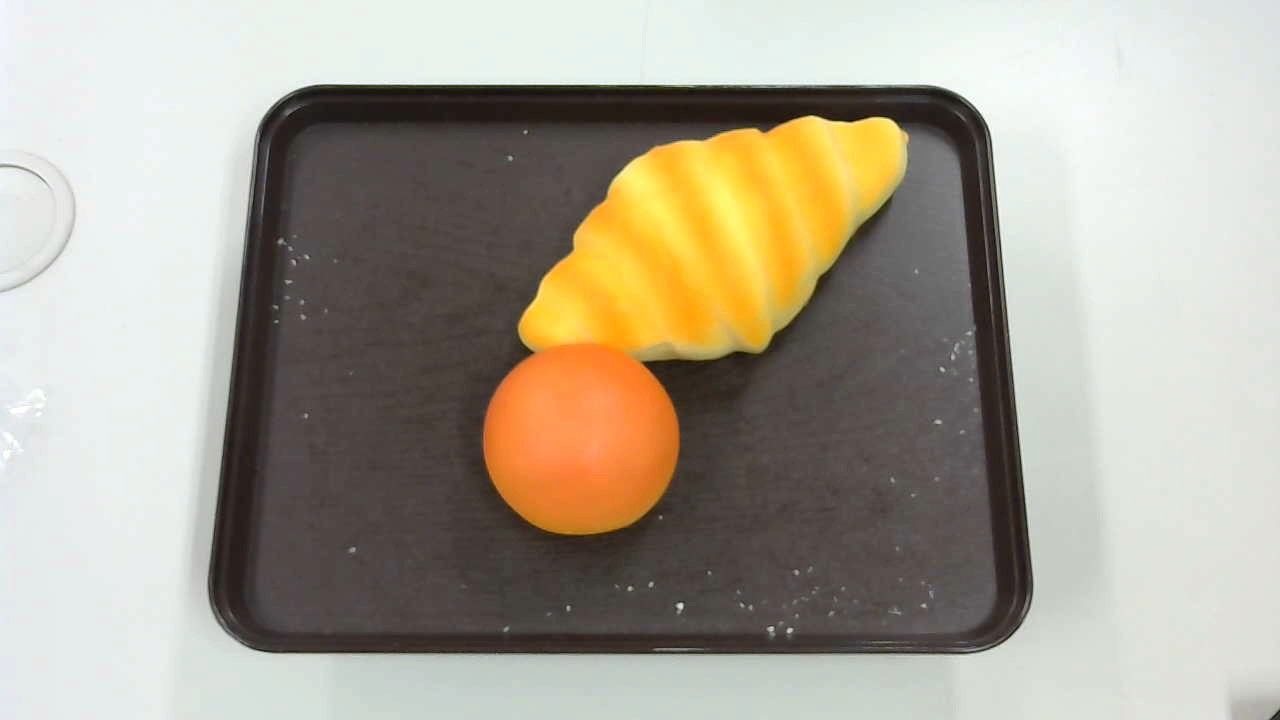bun: (482, 343, 679, 536)
croissant: (517, 116, 909, 362)
